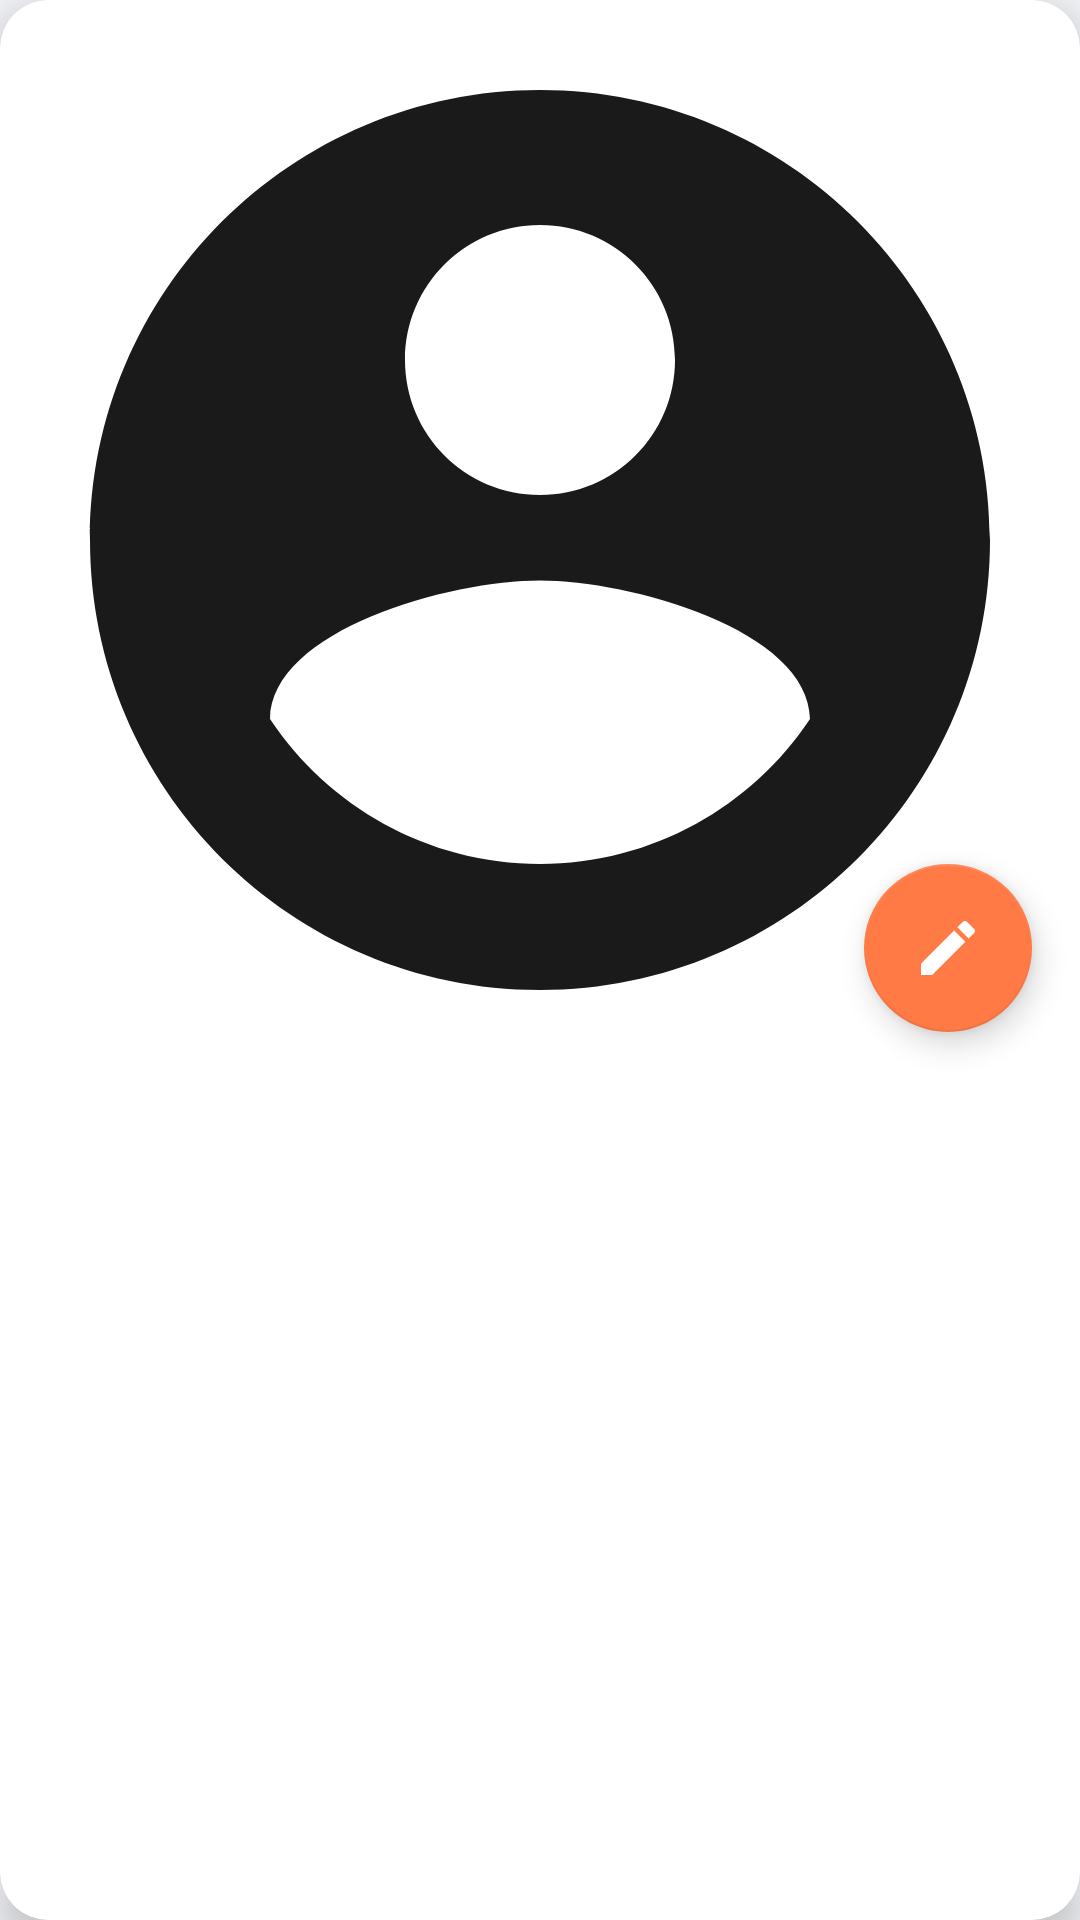

Named icons in this screenshot (1080w x 1920h) and their bounding boxes, [x1, y1, x2, y2]:
edit: [864, 864, 1032, 1032]
